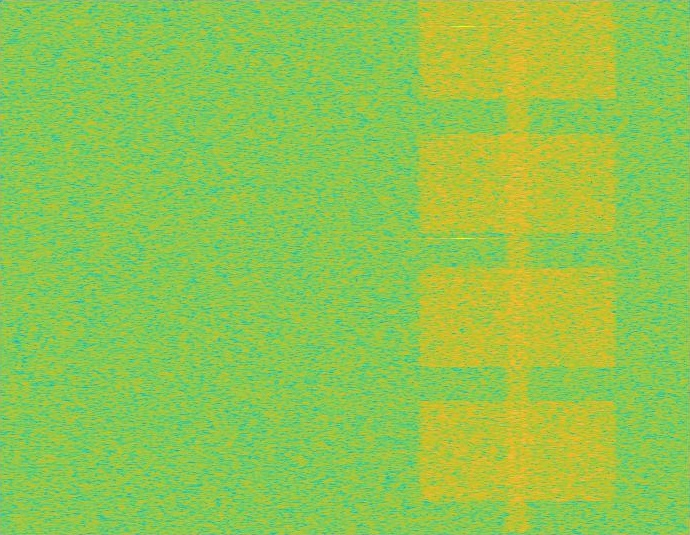5G: (414, 0, 621, 534)
DSSS: (504, 0, 532, 534)
Radar: (456, 0, 470, 534)
